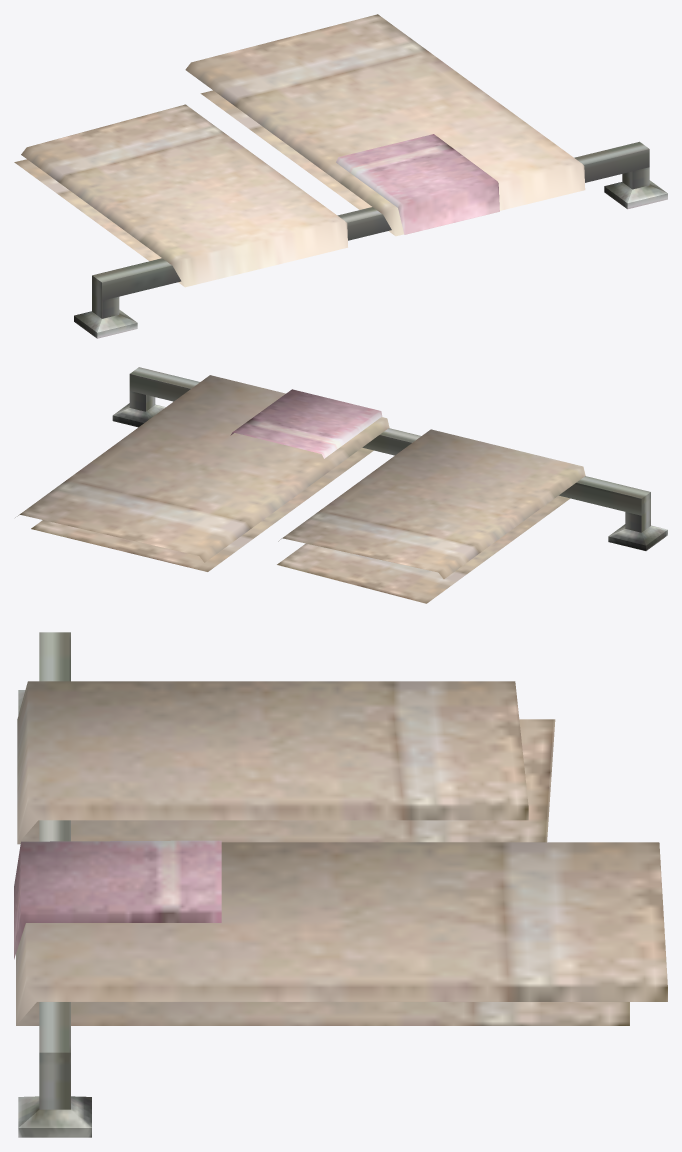
File: towel_rack2.fbx
3 renders of one model, top to bottom at view 1: azimuth 30°, elevation 25°; view 2: azimuth 150°, elevation 25°; view 3: azimuth 270°, elevation 25°, orthographic. The views are drawn at different scales.
Visible parts, largest first — view 1: mesh_3, mesh_0, mesh_2, mesh_1; view 2: mesh_3, mesh_0, mesh_1, mesh_2; view 3: mesh_3, mesh_0, mesh_2, mesh_1.
Boxes of the visible parts, bbox=[...] form: mesh_3: bbox=[185, 14, 585, 236]; mesh_0: bbox=[14, 104, 347, 287]; mesh_2: bbox=[336, 134, 499, 234]; mesh_1: bbox=[74, 141, 667, 338]; mesh_3: bbox=[15, 375, 389, 571]; mesh_0: bbox=[277, 429, 585, 603]; mesh_1: bbox=[112, 367, 667, 550]; mesh_2: bbox=[230, 389, 382, 458]; mesh_3: bbox=[16, 842, 667, 1025]; mesh_0: bbox=[17, 681, 555, 844]; mesh_2: bbox=[14, 840, 221, 959]; mesh_1: bbox=[18, 632, 91, 1137].
Bounding box in the file's own units: 98.75 × 9.85 × 62.33.
1 material, 1 textured.
